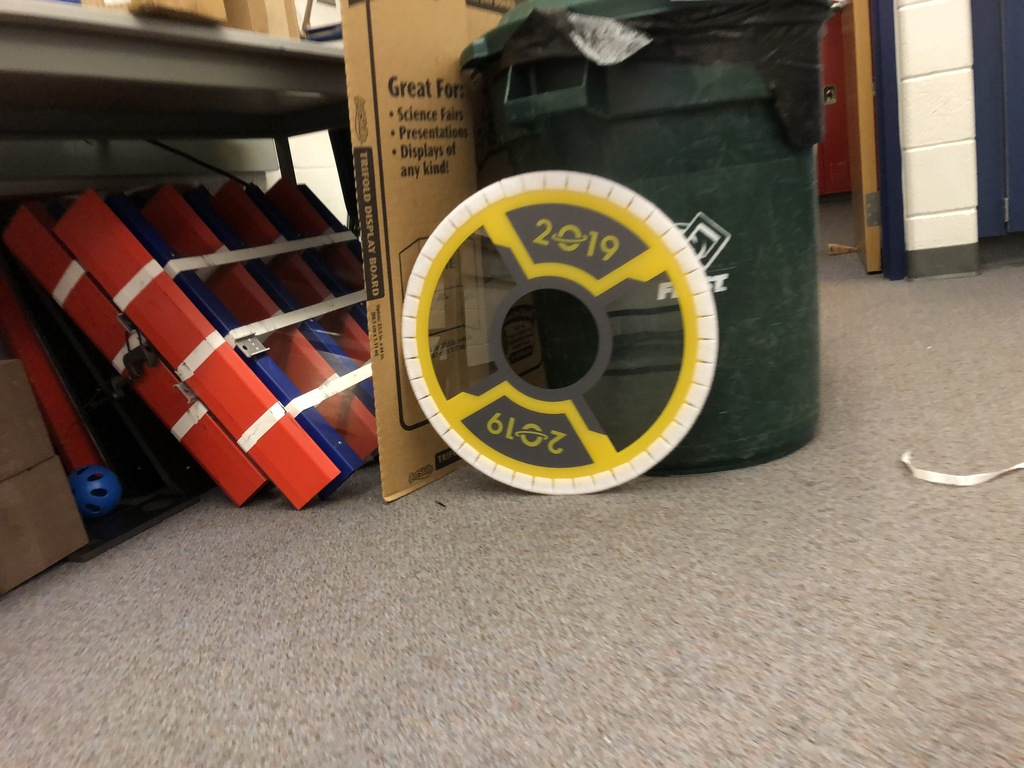hatch_panel: (397, 152, 730, 524)
